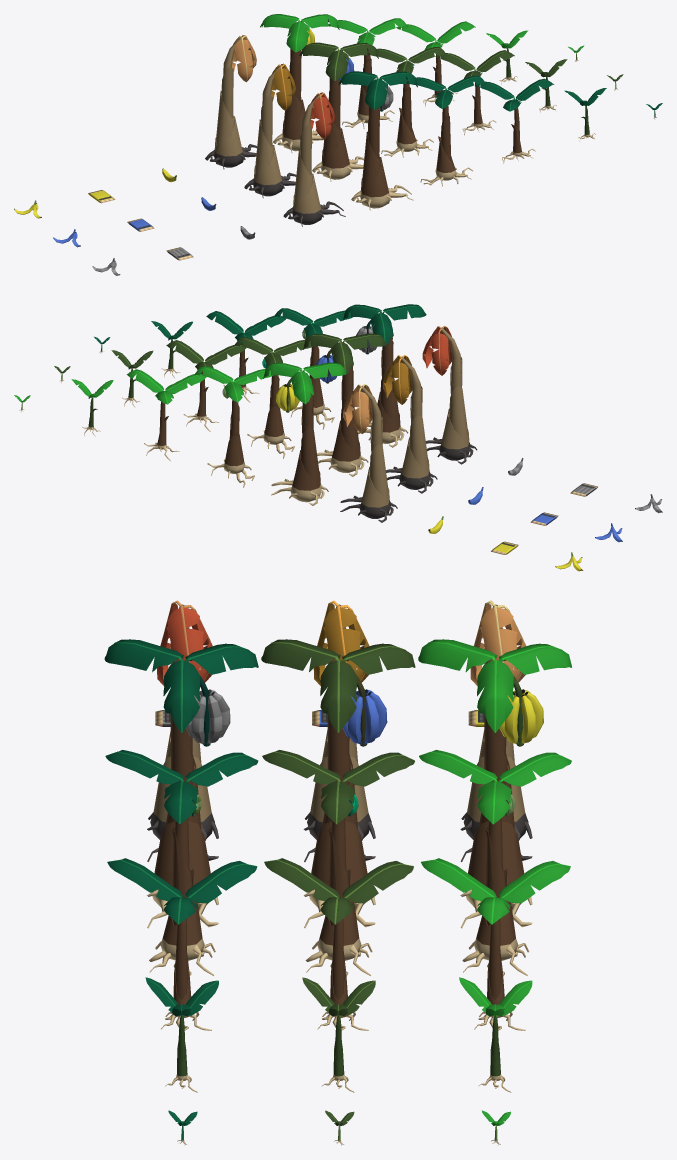
File: Banana Plants.fbx
The picture shows the model from 3 angles, top to bottom: view 1: azimuth 30°, elevation 25°; view 2: azimuth 150°, elevation 25°; view 3: azimuth 270°, elevation 25°; orthographic projection. The views are drawn at different scales.
Parts seen in each view (by area): view 1: Mimana Mature, Bluespace Banana Mature, Mimana Dead, Banana Dead, Bluespace Banana Dead, Banana Mature, Mimana Growing 4, Bluespace Banana Stage 4, Banana Stage 4, Mimana Growing 3, Bluespace Banana Stage 3, Banana Stage 3 (+3 smaller); view 2: Banana Mature, Bluespace Banana Mature, Banana Dead, Mimana Dead, Bluespace Banana Dead, Mimana Mature, Banana Stage 4, Bluespace Banana Stage 4, Mimana Growing 4, Banana Stage 3, Bluespace Banana Stage 3, Mimana Growing 3 (+3 smaller); view 3: Bluespace Banana Mature, Banana Mature, Mimana Mature, Banana Stage 4, Bluespace Banana Stage 4, Mimana Growing 4, Banana Stage 3, Bluespace Banana Stage 3, Mimana Growing 3, Banana Dead, Mimana Dead, Bluespace Banana Dead (+3 smaller).
Boxes of the visible parts, x1,y1,x2,y2 form: Mimana Mature: (338, 71, 417, 210); Bluespace Banana Mature: (299, 42, 378, 181); Mimana Dead: (283, 92, 345, 226); Banana Dead: (205, 35, 257, 169); Bluespace Banana Dead: (244, 63, 296, 198); Banana Mature: (260, 14, 339, 152); Mimana Growing 4: (406, 75, 485, 186); Bluespace Banana Stage 4: (367, 47, 446, 157); Banana Stage 4: (328, 18, 407, 129); Mimana Growing 3: (474, 78, 554, 163); Bluespace Banana Stage 3: (435, 50, 514, 135); Banana Stage 3: (396, 21, 475, 106); Banana Mature: (263, 362, 346, 505); Bluespace Banana Mature: (303, 333, 386, 476); Banana Dead: (340, 384, 397, 522); Mimana Dead: (422, 325, 477, 464); Bluespace Banana Dead: (383, 355, 437, 493); Mimana Mature: (343, 304, 426, 447); Banana Stage 4: (195, 366, 273, 487); Bluespace Banana Stage 4: (235, 337, 312, 458); Mimana Growing 4: (274, 308, 352, 429); Banana Stage 3: (126, 369, 206, 460); Bluespace Banana Stage 3: (166, 340, 246, 431); Mimana Growing 3: (206, 311, 285, 402); Bluespace Banana Mature: (261, 639, 415, 928); Banana Mature: (418, 639, 571, 928); Mimana Mature: (104, 639, 258, 928); Banana Stage 4: (419, 750, 571, 975); Bluespace Banana Stage 4: (262, 750, 414, 975); Mimana Growing 4: (105, 750, 258, 975); Banana Stage 3: (421, 858, 570, 1030); Bluespace Banana Stage 3: (264, 858, 413, 1030); Mimana Growing 3: (107, 858, 257, 1030); Banana Dead: (460, 600, 532, 861); Mimana Dead: (147, 600, 218, 861); Bluespace Banana Dead: (303, 600, 375, 861).
Size of the model in its own units: 8.32 by 1.81 by 2.98.
